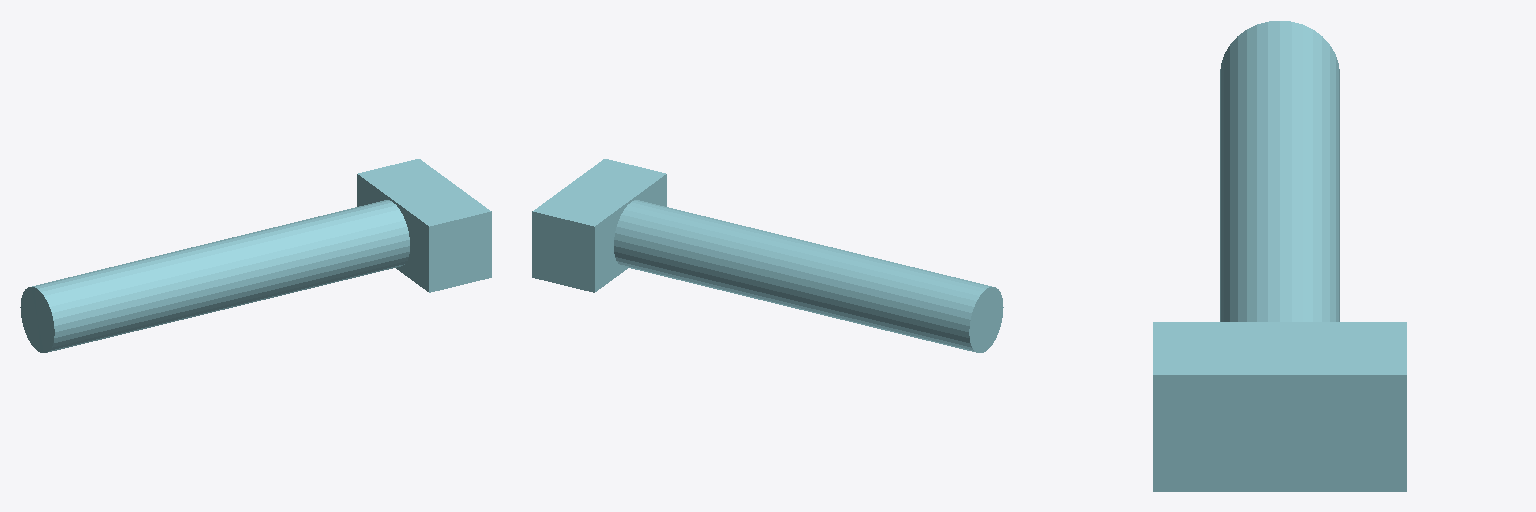
The robot description file, URDF, robot "cylinder_hammer_v1003":
<?xml version="1.0"?>
<robot name="cylinder_hammer_v1003">

  <link name="cylinder_hammer_v1003">
    <!-- Handle -->
    <visual>
      <origin xyz="0 0 0" rpy="0 1.5707963267948966 0"/>
      <geometry>
        <cylinder length="0.2579194433926405" radius="0.021481395596626554"/>
      </geometry>
      <material name="material">
        <color rgba="0.639 0.847 0.882 1.0"/>
      </material>
    </visual>
    <collision>
      <origin xyz="0 0 0" rpy="0 1.5707963267948966 0"/>
      <geometry>
        <cylinder length="0.2579194433926405" radius="0.021481395596626554"/>
      </geometry>
    </collision>

    <!-- Head -->
    <visual>
      <origin xyz="0.1515058985103691 0 0" rpy="0 0 0"/>
      <geometry>
        <box size="0.04509235362809773 0.0908868578238915 0.045993864062192795"/>
      </geometry>
      <material name="material">
        <color rgba="0.639 0.847 0.882 1.0"/>
      </material>
    </visual>
    <collision>
      <origin xyz="0.1515058985103691 0 0" rpy="0 0 0"/>
      <geometry>
        <box size="0.04509235362809773 0.0908868578238915 0.045993864062192795"/>
      </geometry>
    </collision>

    <inertial>
      <density value="400.0"/>
    </inertial>
  </link>

</robot>

--- What the picture shows (computed from the rendered views, not written in the file) ---
Views: 3 orthographic renders of the robot side by side, from view 1: azimuth 30°, elevation 25°; view 2: azimuth 150°, elevation 25°; view 3: azimuth 270°, elevation 25°.
Model cylinder_hammer_v1003 with 1 links and 0 joints (none), rooted at cylinder_hammer_v1003, posed all joints at 0.
Links seen in each view (by area): view 1: cylinder_hammer_v1003; view 2: cylinder_hammer_v1003; view 3: cylinder_hammer_v1003.
Boxes of the visible links, x1,y1,x2,y2 form: cylinder_hammer_v1003: (20,159,491,352); cylinder_hammer_v1003: (532,159,1003,352); cylinder_hammer_v1003: (1153,21,1406,491).
Bounding box of the posed robot: 0.303 × 0.0909 × 0.046 m (x, y, z).
Geometry: primitives only (box / cylinder / sphere), no mesh files.
